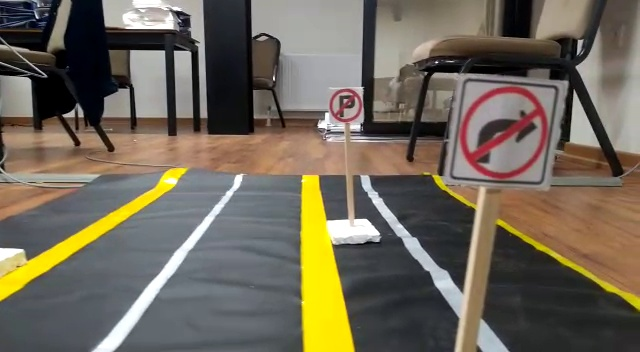park_yapilmaz: (328, 90, 364, 122)
saga_donulmez: (461, 80, 553, 184)
